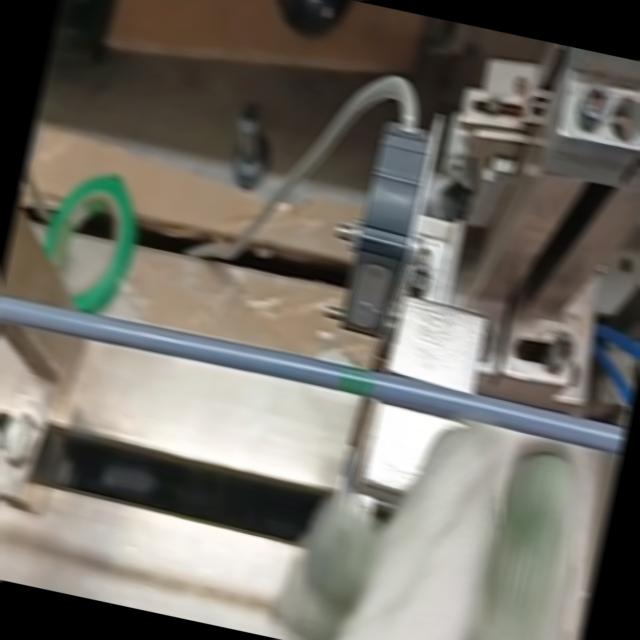green: (337, 363, 374, 398)
